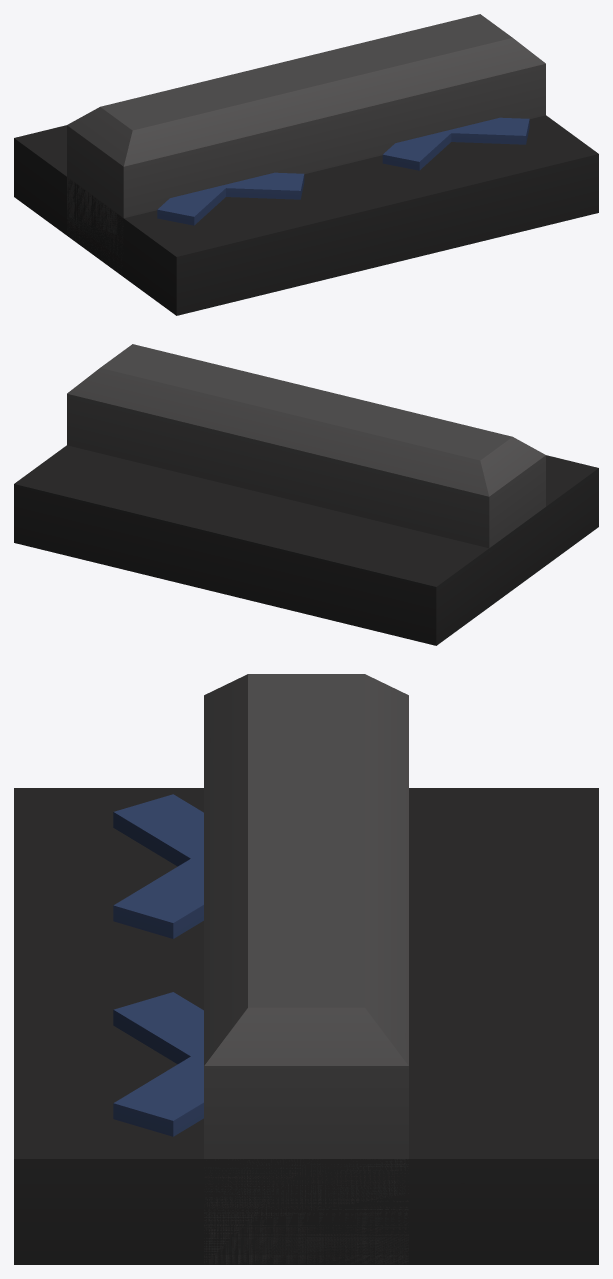
Rendered from express-splitter.glb.
The picture shows the model from 3 angles, top to bottom: view 1: azimuth 30°, elevation 25°; view 2: azimuth 150°, elevation 25°; view 3: azimuth 270°, elevation 25°; orthographic projection. The views are drawn at different scales.
Parts seen in each view (by area): view 1: express-splitter; view 2: express-splitter; view 3: express-splitter.
Boxes of the visible parts, x1,y1,x2,y2 form: express-splitter: [14, 14, 598, 315]; express-splitter: [14, 344, 598, 645]; express-splitter: [14, 674, 598, 1264].
Bounding box in the file's own units: 0.3 × 0.09 × 0.2.
